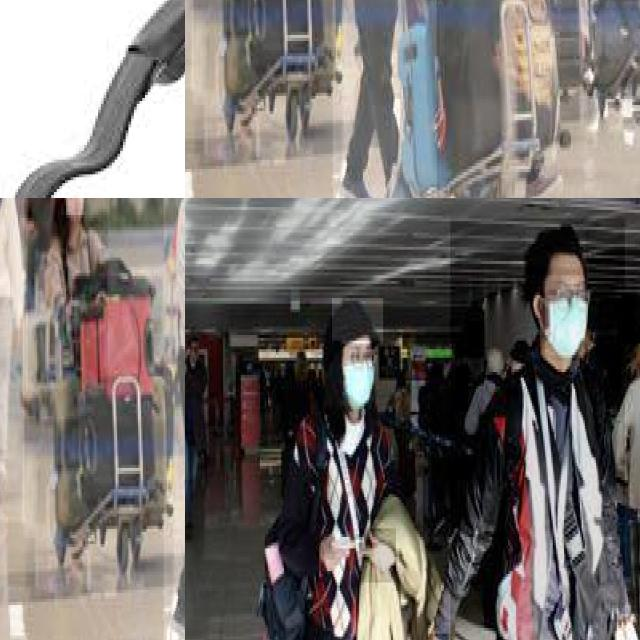face_mask: (545, 275, 586, 358), (342, 341, 374, 409)
face_nomask: (66, 198, 83, 214), (190, 343, 199, 358)
hand_noglove: (359, 528, 398, 586), (319, 528, 353, 582), (616, 613, 640, 640)
head_nohelmet: (332, 298, 385, 344), (526, 230, 586, 270)
person: (450, 218, 626, 640), (264, 295, 429, 640), (332, 0, 438, 198), (27, 198, 109, 385), (0, 198, 25, 525)
shoes: (336, 166, 379, 198), (167, 599, 185, 640)
